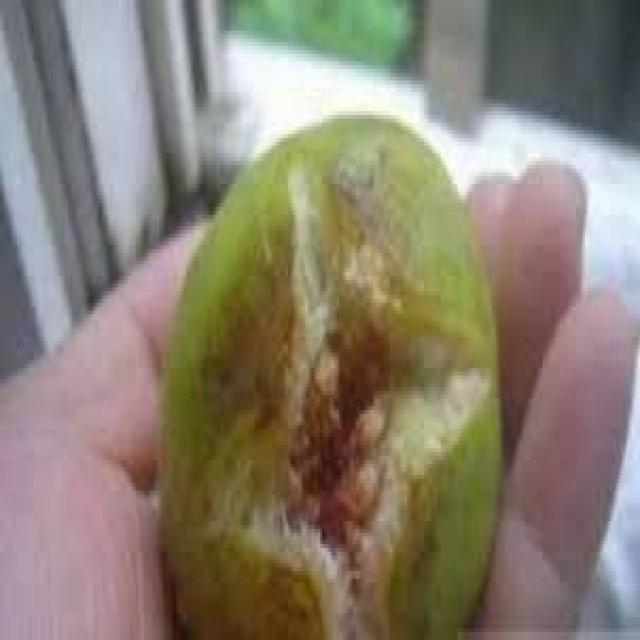organic waste: (157, 107, 500, 636)
